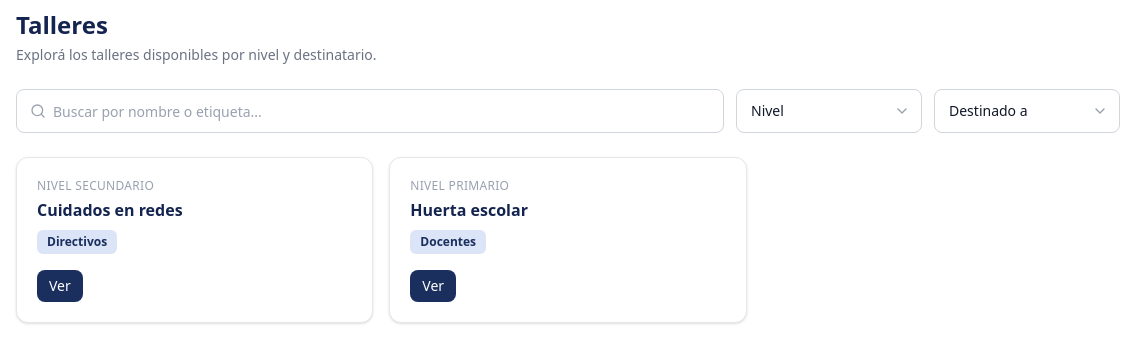
Test: TalleresCatalogoPage: filtros › filtra por destinatario
The image size is (1139, 341).
Expected: the heading "Cuidados en redes" is shown, [37, 199, 183, 221]
Select "Directivos" in the 2nd dropdown named "Destinado a" at (1027, 111), box [934, 89, 1120, 133]
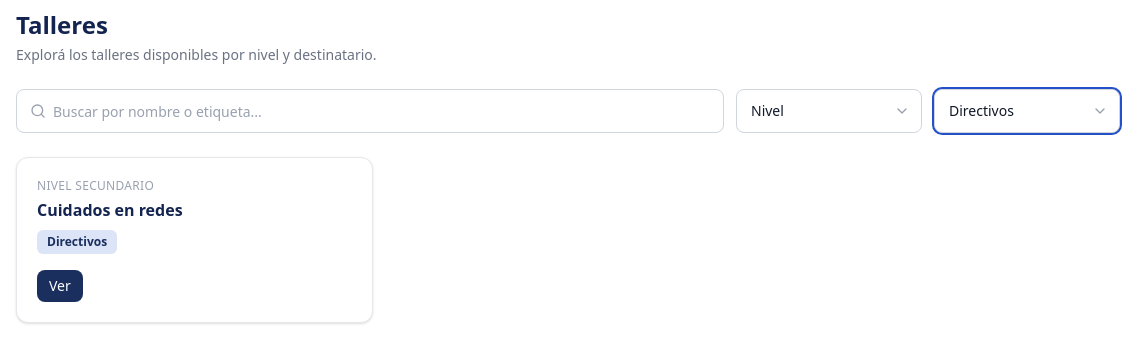
Expected: the heading "Cuidados en redes" is shown, [37, 199, 183, 221]
Result: the heading "Huerta escolar" is gone
